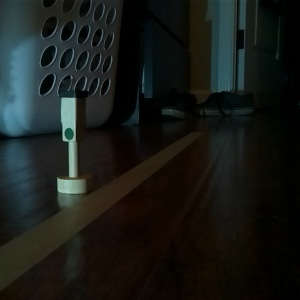traffic light green: (53, 89, 96, 196)
